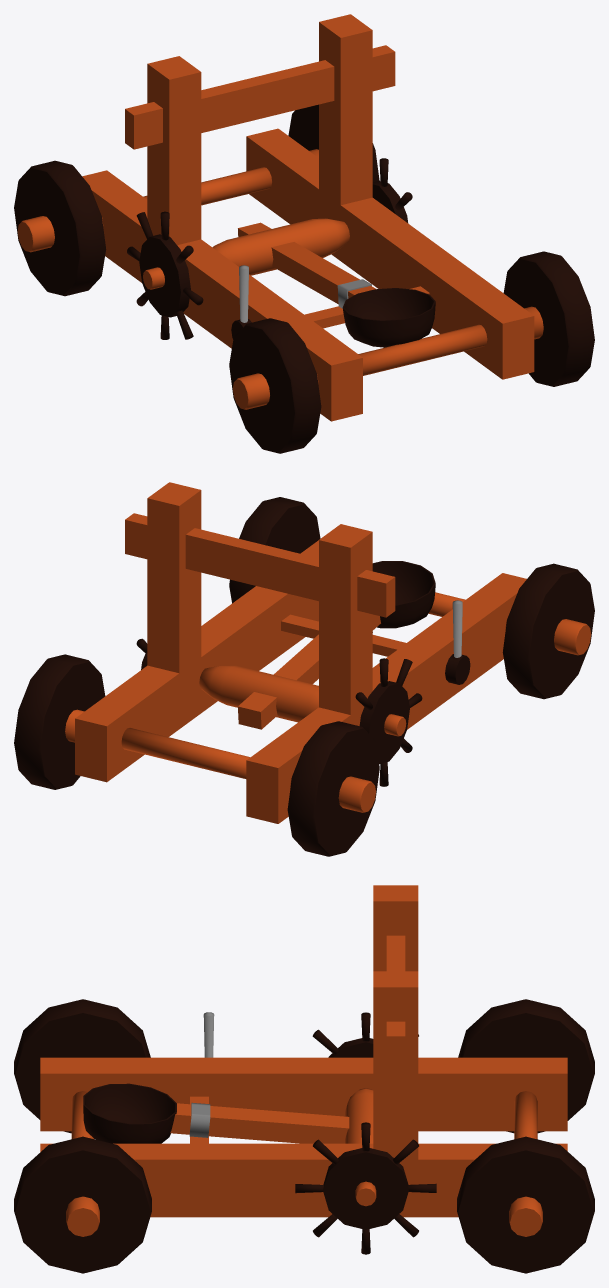
File: catapulta.FBX
3 renders of one model, top to bottom at view 1: azimuth 30°, elevation 25°; view 2: azimuth 150°, elevation 25°; view 3: azimuth 270°, elevation 25°, orthographic. The views are drawn at different scales.
Visible parts, largest first — view 1: Estructura, Ruedas_traseras, Ruedas_delanteras, Ruedas_palos, Cesto_catapulta, Palo_catapulta, Palanca; view 2: Estructura, Ruedas_delanteras, Ruedas_traseras, Ruedas_palos, Cesto_catapulta, Palo_catapulta, Palanca; view 3: Estructura, Ruedas_delanteras, Ruedas_traseras, Ruedas_palos, Palo_catapulta, Cesto_catapulta.
Boxes of the visible parts, <box> form: Estructura: <box>17,14,543,421</box>; Ruedas_traseras: <box>229,251,594,453</box>; Ruedas_delanteras: <box>14,104,379,296</box>; Ruedas_palos: <box>127,158,412,339</box>; Cesto_catapulta: <box>342,288,435,347</box>; Palo_catapulta: <box>238,222,376,308</box>; Palanca: <box>231,265,251,339</box>; Estructura: <box>65,482,591,823</box>; Ruedas_delanteras: <box>14,654,379,856</box>; Ruedas_traseras: <box>229,497,594,699</box>; Ruedas_palos: <box>136,638,422,786</box>; Cesto_catapulta: <box>372,561,435,628</box>; Palo_catapulta: <box>238,614,380,729</box>; Palanca: <box>445,600,470,684</box>; Estructura: <box>40,885,567,1236</box>; Ruedas_delanteras: <box>457,999,594,1273</box>; Ruedas_traseras: <box>14,999,151,1273</box>; Ruedas_palos: <box>295,1012,436,1254</box>; Palo_catapulta: <box>170,1102,349,1143</box>; Cesto_catapulta: <box>83,1083,176,1143</box>.
Size of the model in its own units: 80.87 by 57.51 by 115.
